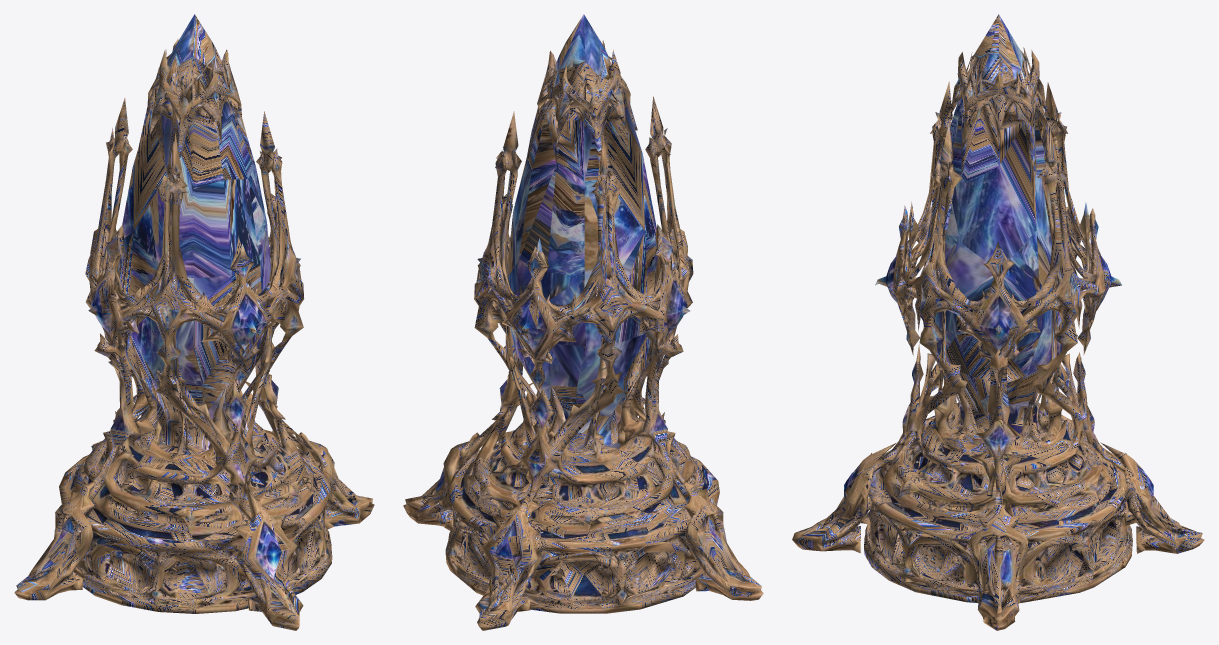
The model's file is Celestial_Prism_Reliq.glb.
The picture shows the model from 3 angles, left to right: view 1: azimuth 30°, elevation 25°; view 2: azimuth 150°, elevation 25°; view 3: azimuth 270°, elevation 25°; orthographic projection.
Parts seen in each view (by area): view 1: Celestial_Prism_Reliq; view 2: Celestial_Prism_Reliq; view 3: Celestial_Prism_Reliq.
Part boxes in pixels (bbox=[...]): Celestial_Prism_Reliq: bbox=[14, 14, 374, 630]; Celestial_Prism_Reliq: bbox=[403, 14, 763, 630]; Celestial_Prism_Reliq: bbox=[792, 14, 1204, 630].
Bounding box in the file's own units: 1.32 × 1.9 × 1.33.
Materials: 1 (1 with a texture image).
